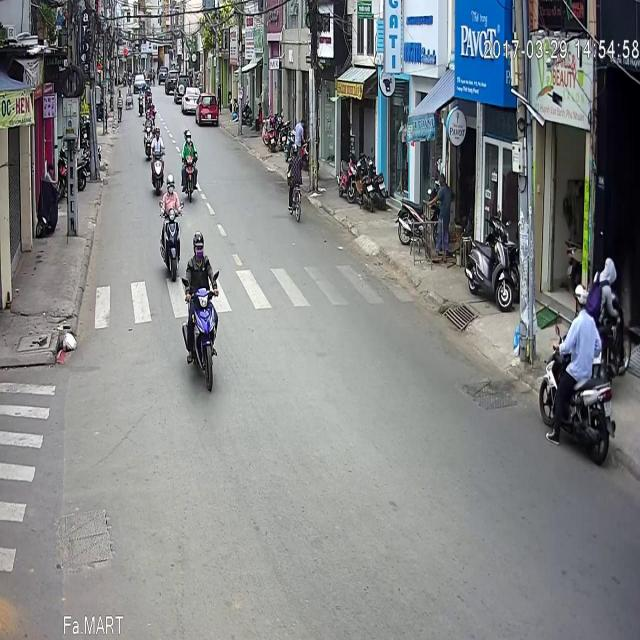bicycle: (285, 86, 301, 166)
car: (195, 34, 219, 66)
motorcycle: (538, 227, 616, 408), (182, 172, 220, 332), (158, 114, 184, 224), (180, 70, 198, 144), (151, 68, 165, 136), (141, 52, 153, 102)
